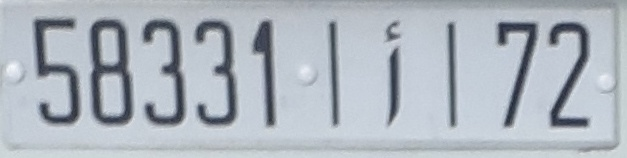1: (245, 16, 284, 129)
2: (544, 18, 594, 130)
3: (136, 16, 191, 130), (188, 19, 243, 127)
5: (30, 15, 84, 129)
7: (492, 13, 541, 136)
8: (87, 16, 136, 130)
a: (380, 16, 405, 129)
